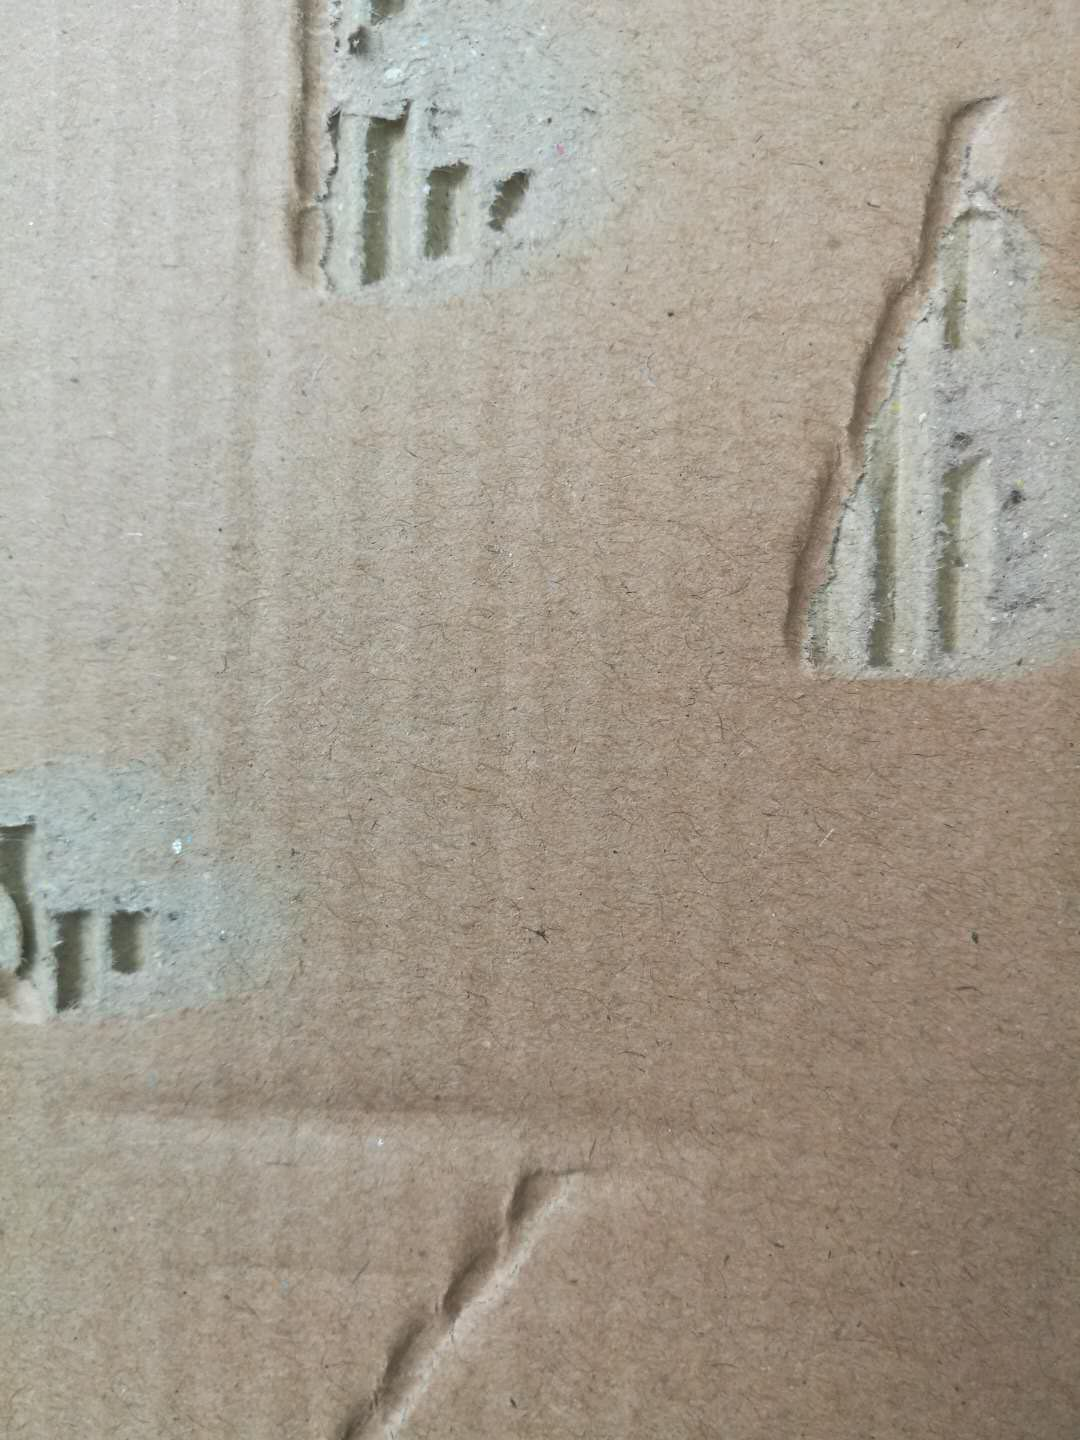defect: (742, 70, 1080, 706), (233, 5, 697, 322), (202, 1157, 646, 1440), (3, 721, 319, 1047), (34, 1064, 839, 1187)
